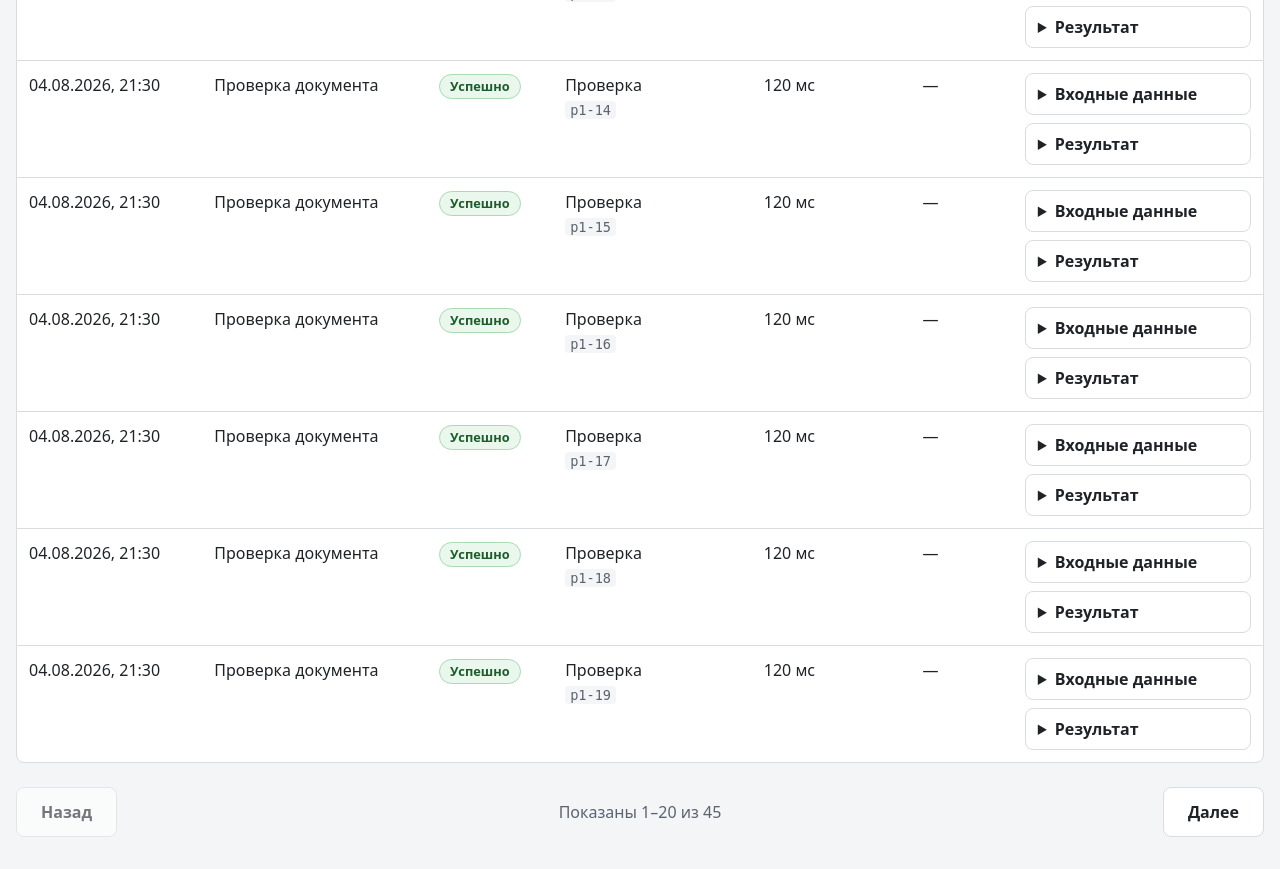
Test case: AuditJournalPage › out-of-range: offset=40, total=25 -> корректный новый offset=20
(page scrolled)
Step 1. Click the button "Далее" → (1213, 812), box [1163, 787, 1264, 837]
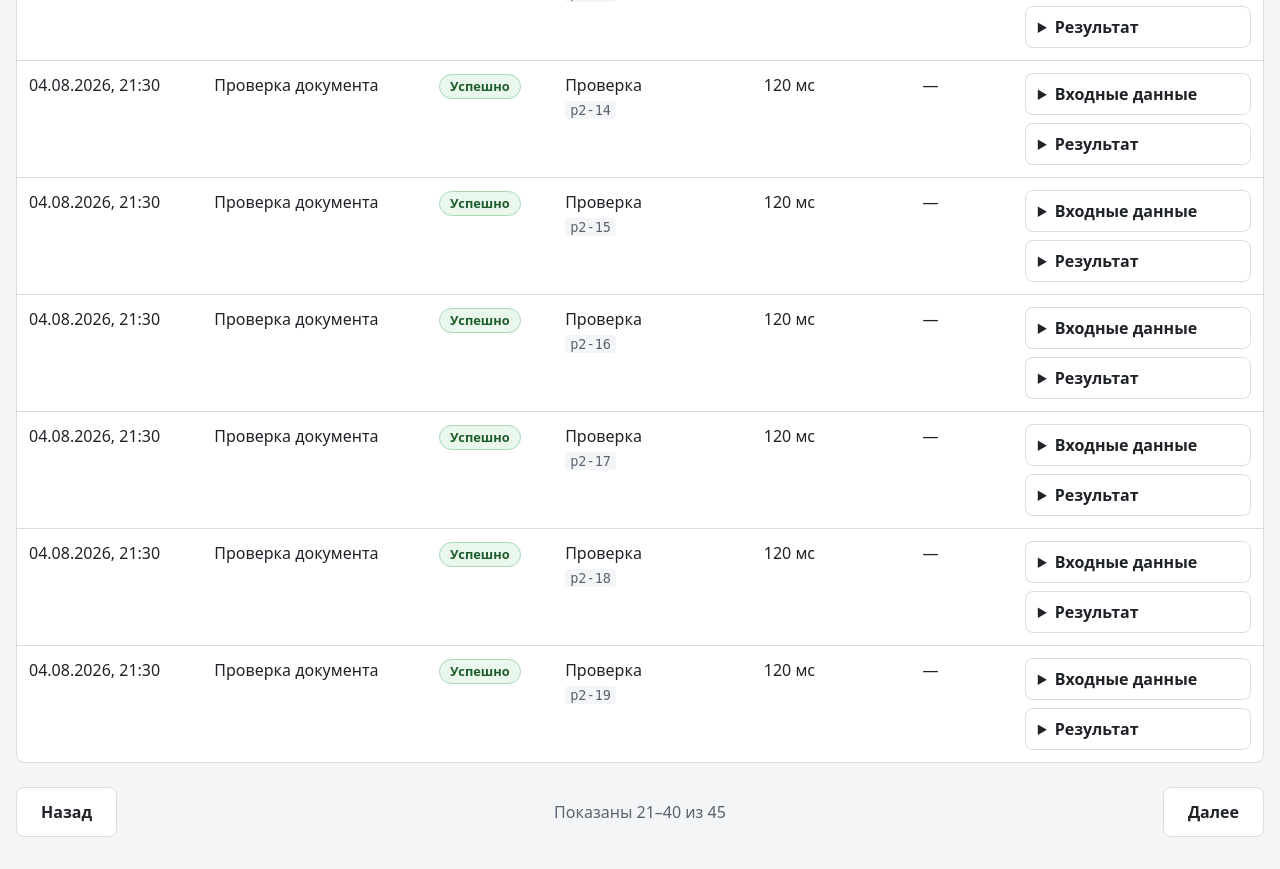
Check: the text "Показаны 21–40 из 45" is shown, box [554, 800, 726, 824]
Step 2. Click the button "Далее" → (1213, 812), box [1163, 787, 1264, 837]
(page scrolled)
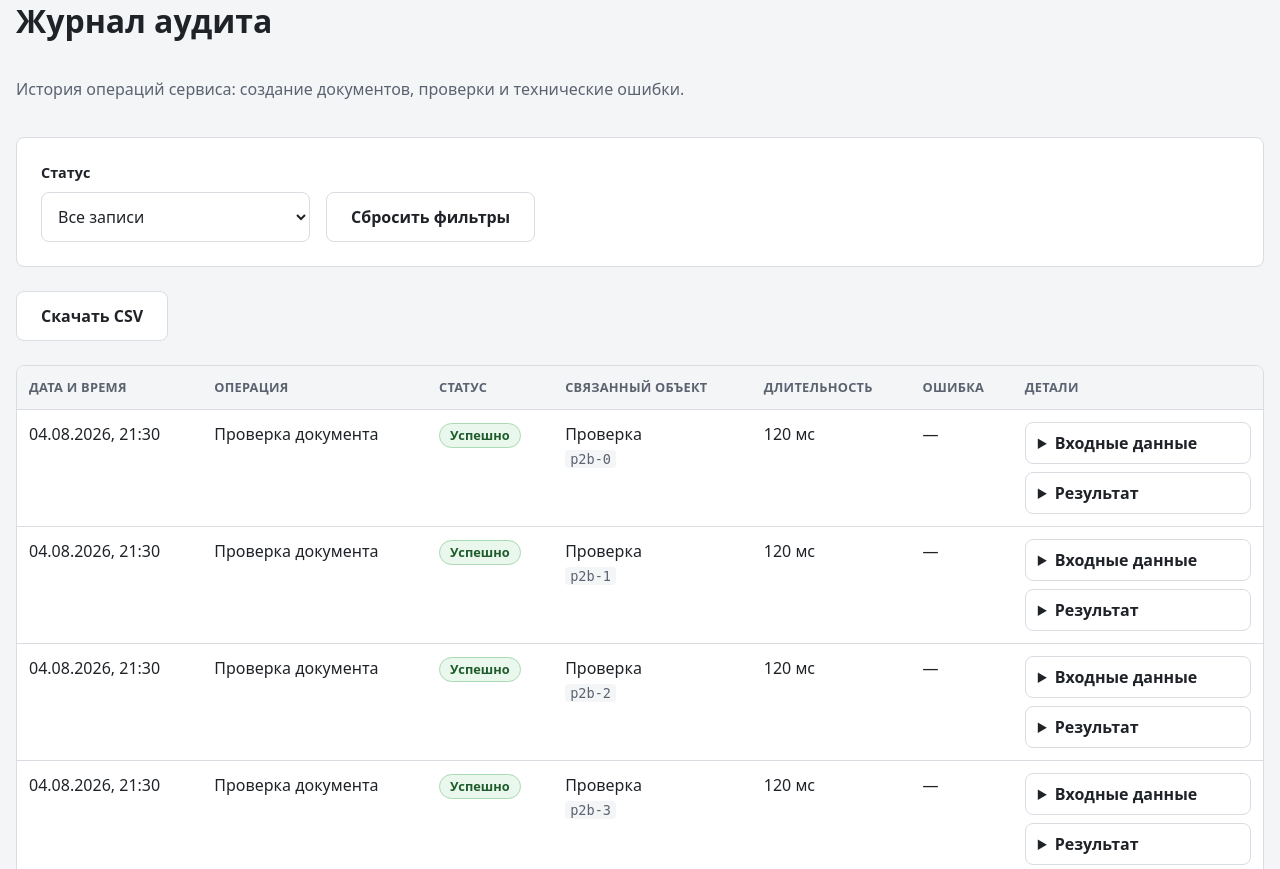
Check: the text "p2b-0" is shown, box [565, 450, 616, 468]
